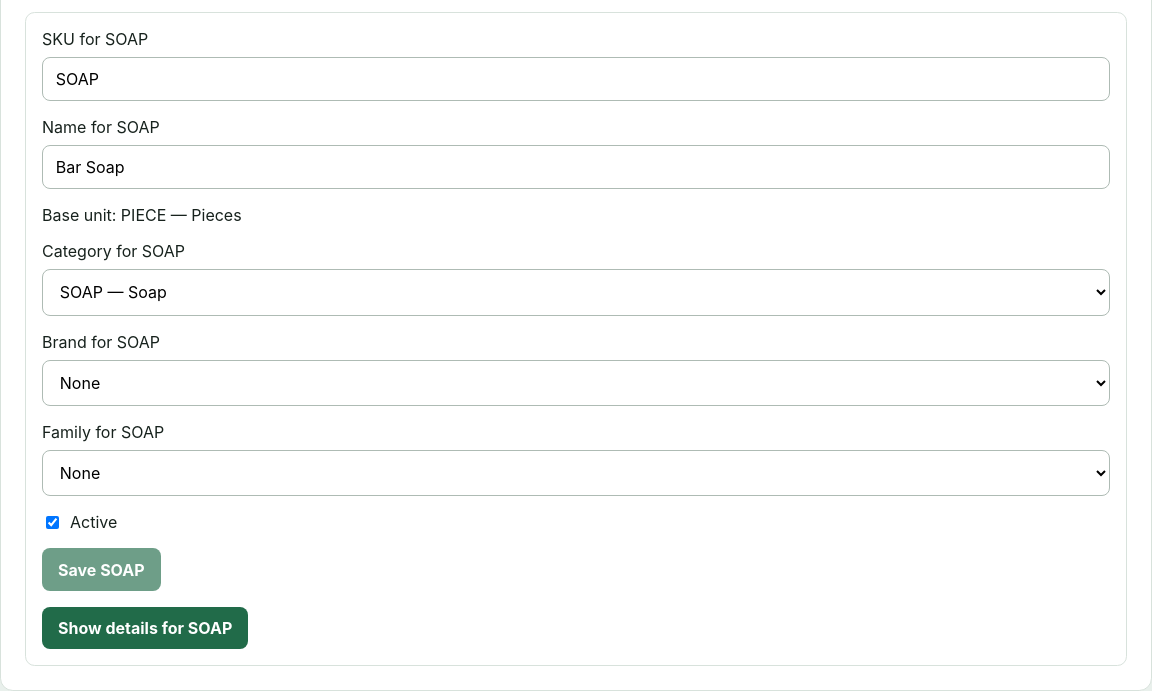
it: catalog management › edits classifications and records packaging-specific channel price history
(page scrolled)
Expected: the field showing "Bar Soap" is shown, [42,145,1110,189]
Click the button "Show details for SOAP" at (145, 628), box [42,607,248,649]
(page scrolled)
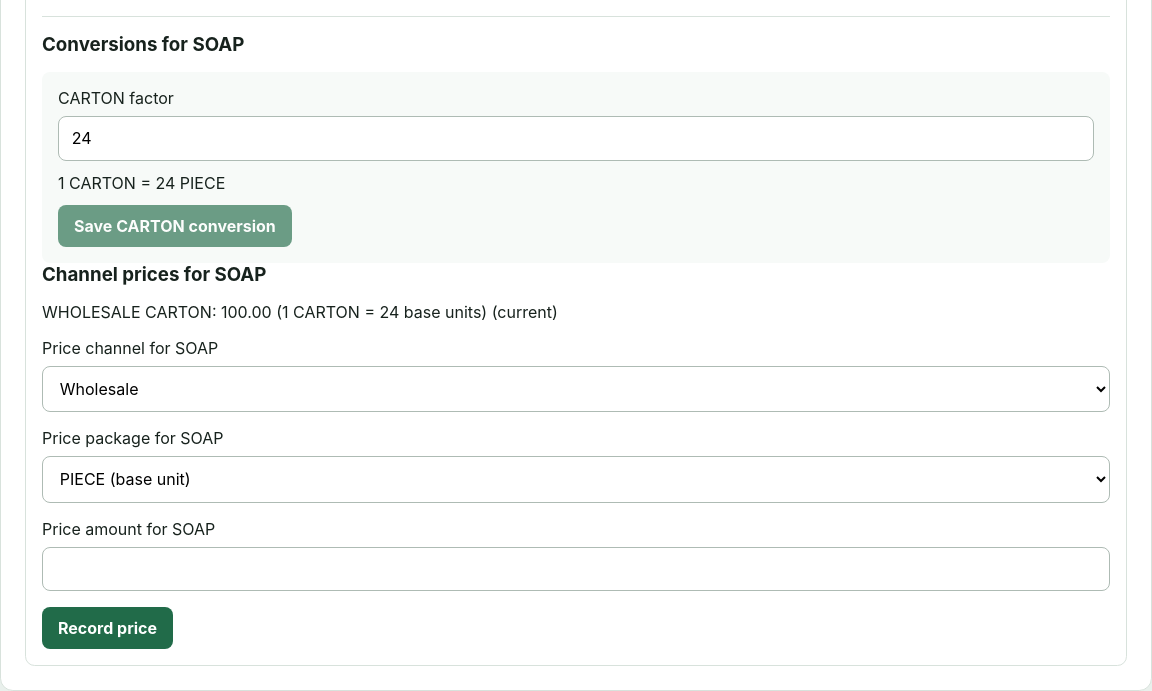
Select "CARTON" in the dropdown labelled "Price package for SOAP" at (576, 480), box [42,456,1110,503]
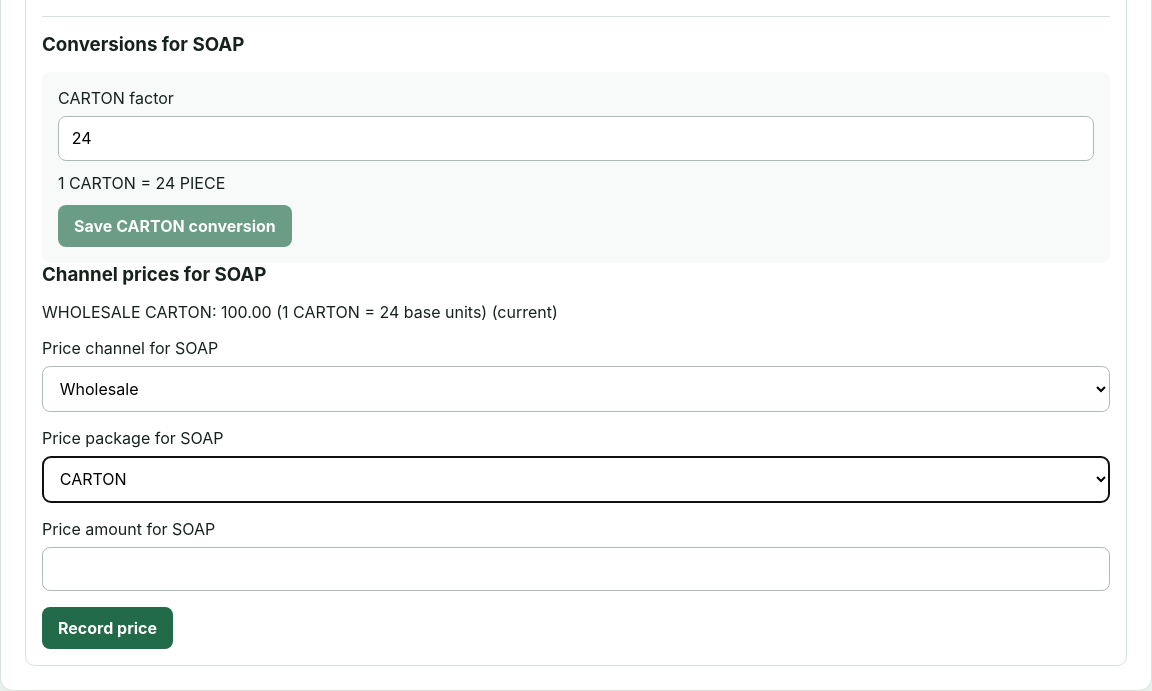
Type "105.12345678" into the field labelled "Price amount for SOAP" at (576, 569), box [42,547,1110,591]
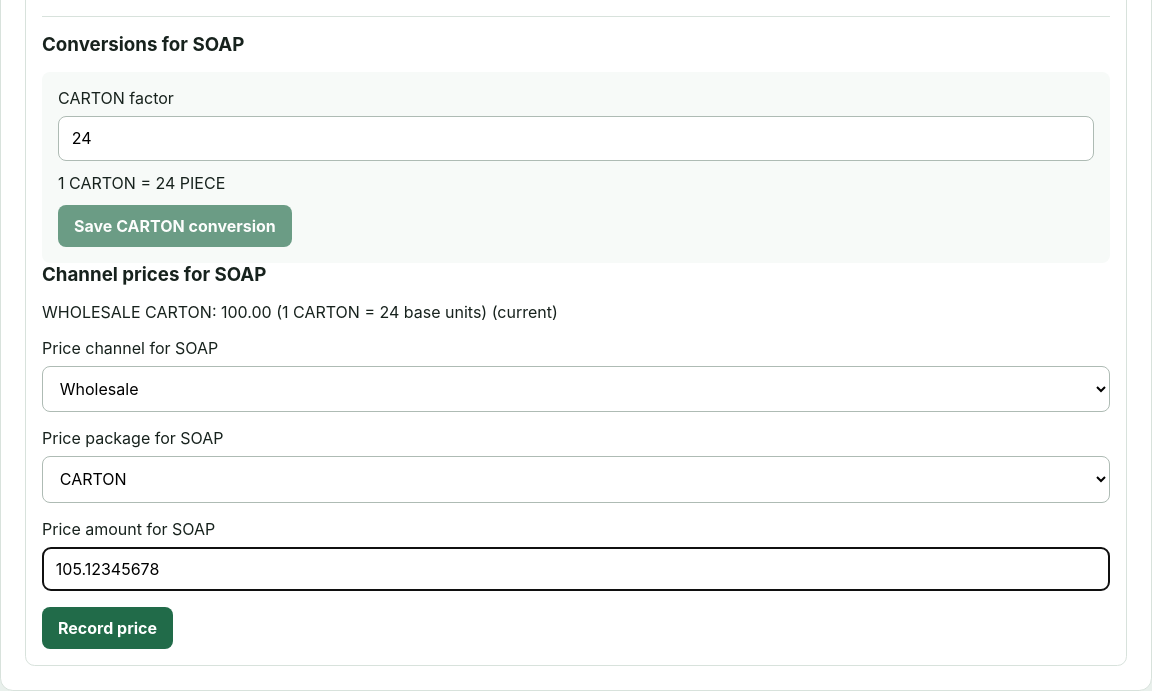
Click the button "Record price" at (108, 628), box [42,607,173,649]
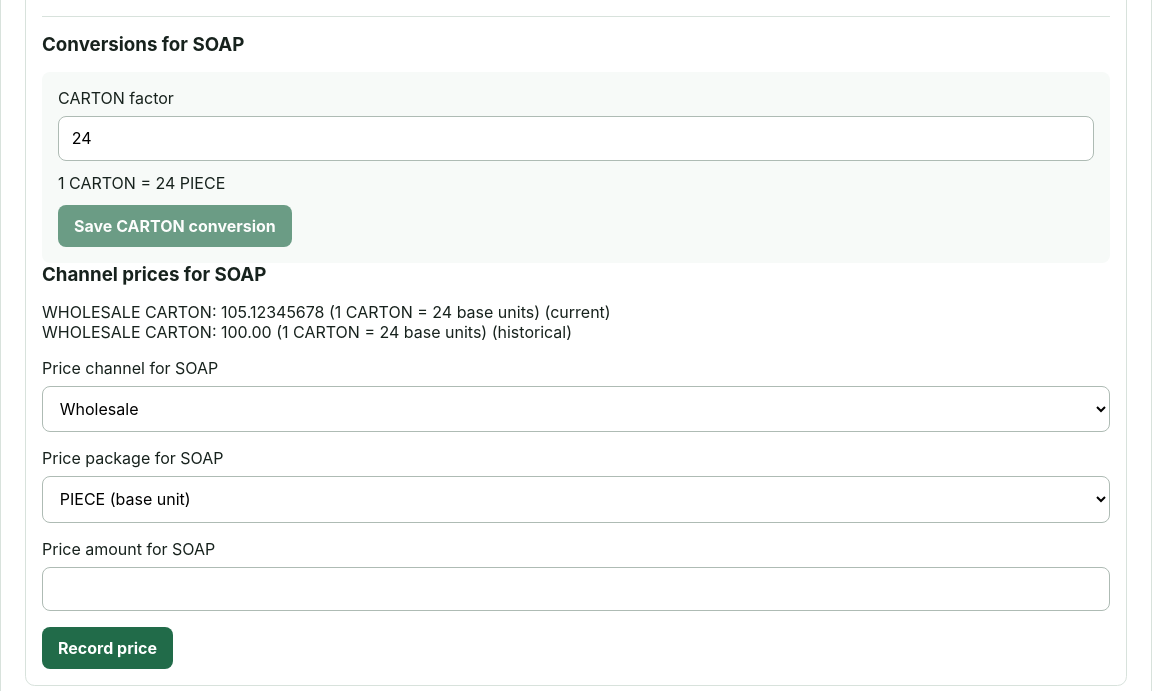
Type "1.123456789" into the field labelled "Price amount for SOAP" at (576, 589), box [42,567,1110,611]
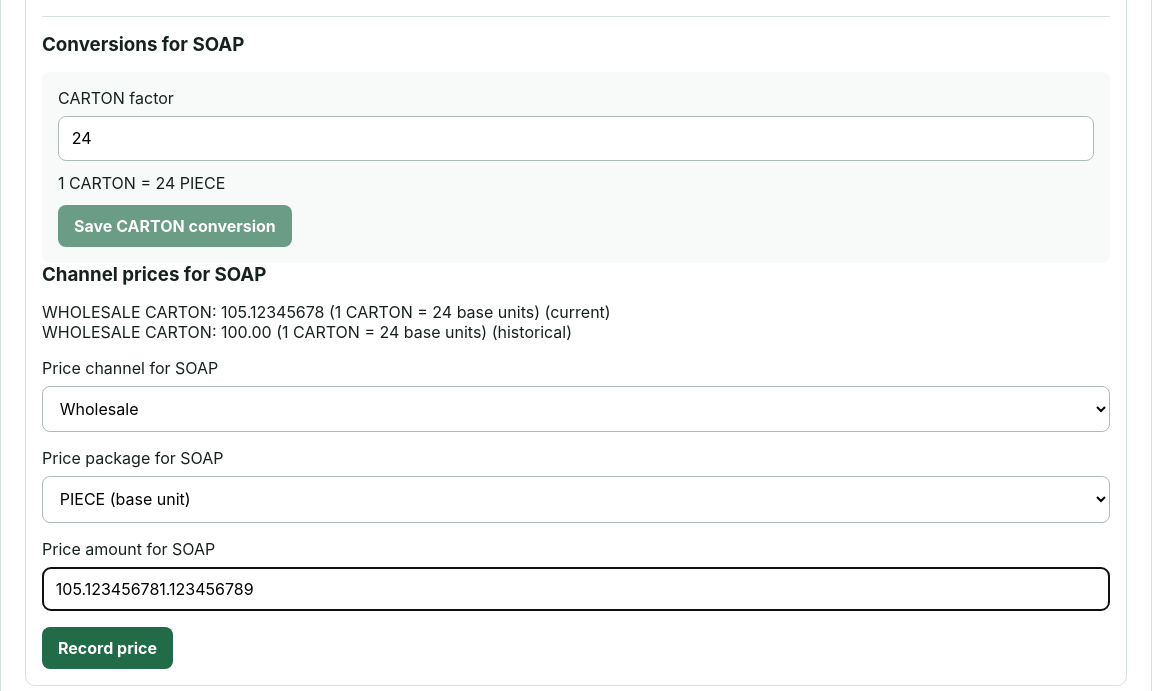
Click the button "Record price" at (108, 648), box [42,627,173,669]
(page scrolled)
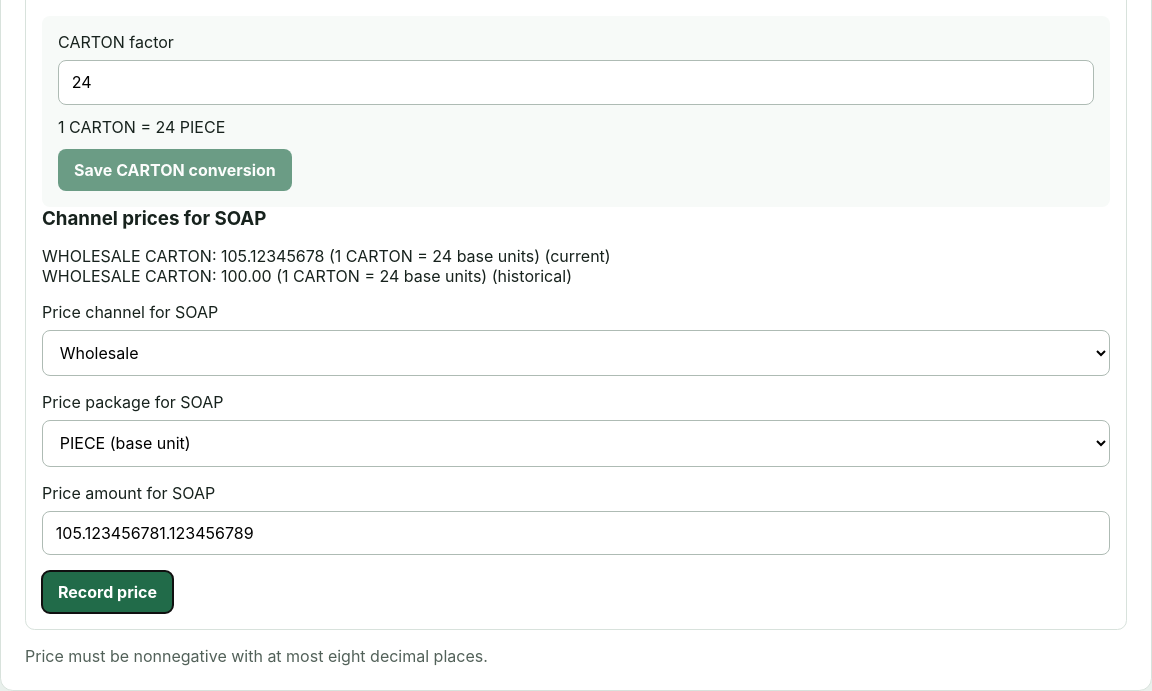
Result: the text "Price must be nonnegative with at most eight decimal places." is shown at [25,646,488,666]
